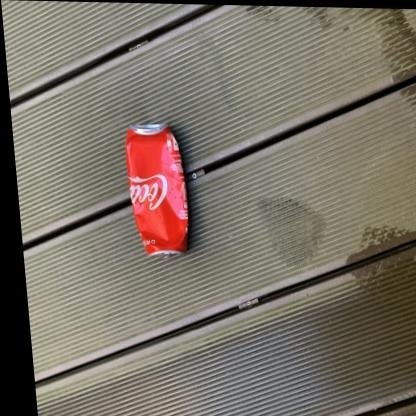trash: (126, 123, 187, 254)
